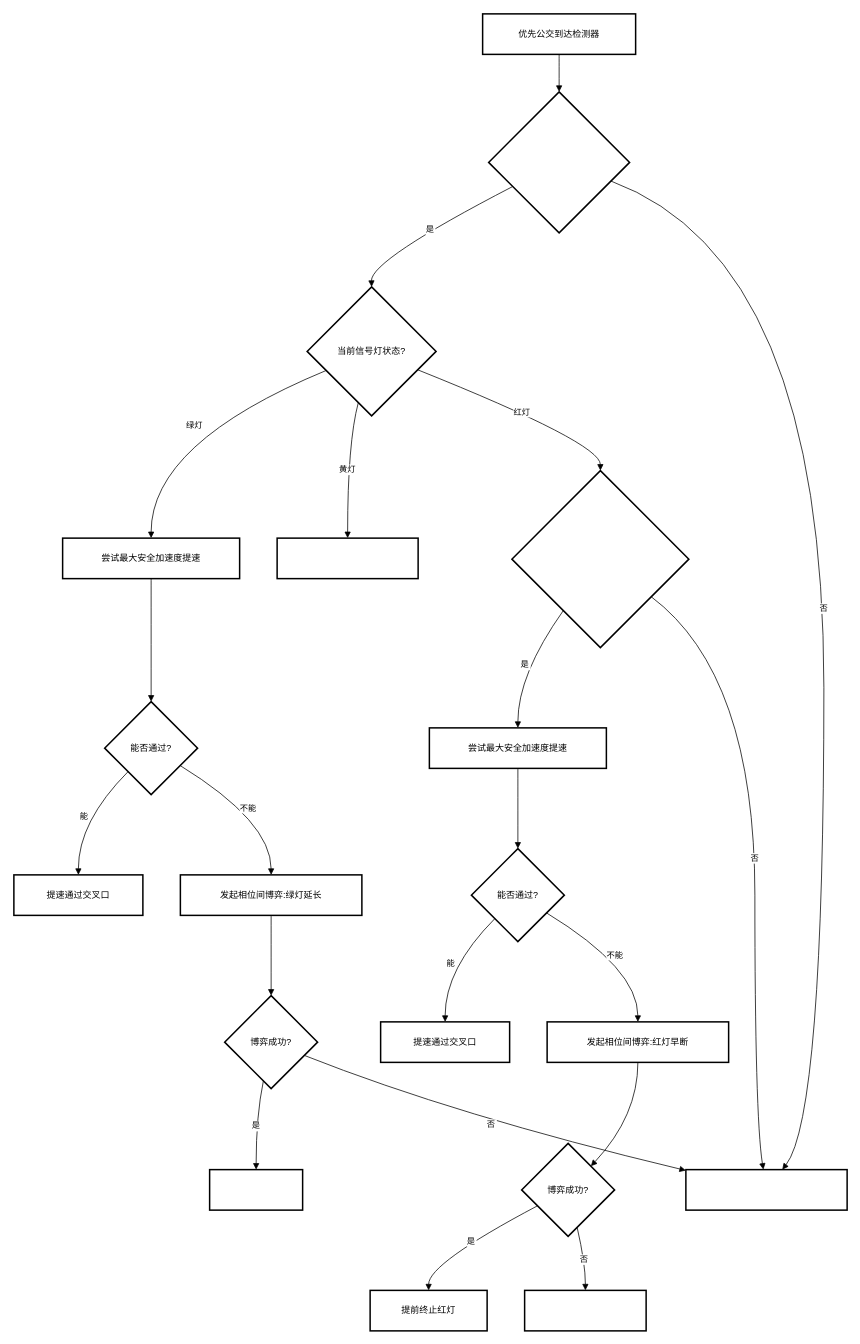
This 860x1344 diagram has some shape labels left out. Here are the shapes that lost their labels. From the top down, the centre of each, then its label:
At (559,162): "是否超过晚点阈值?".
At (347,558): "执行黄灯预设策略".
At (600,559): "下一相位是否为公交相位?".
At (255,1189): "延长绿灯".
At (766,1189): "正常行驶&不改变相位".
At (585,1310): "降级:正常行驶".
